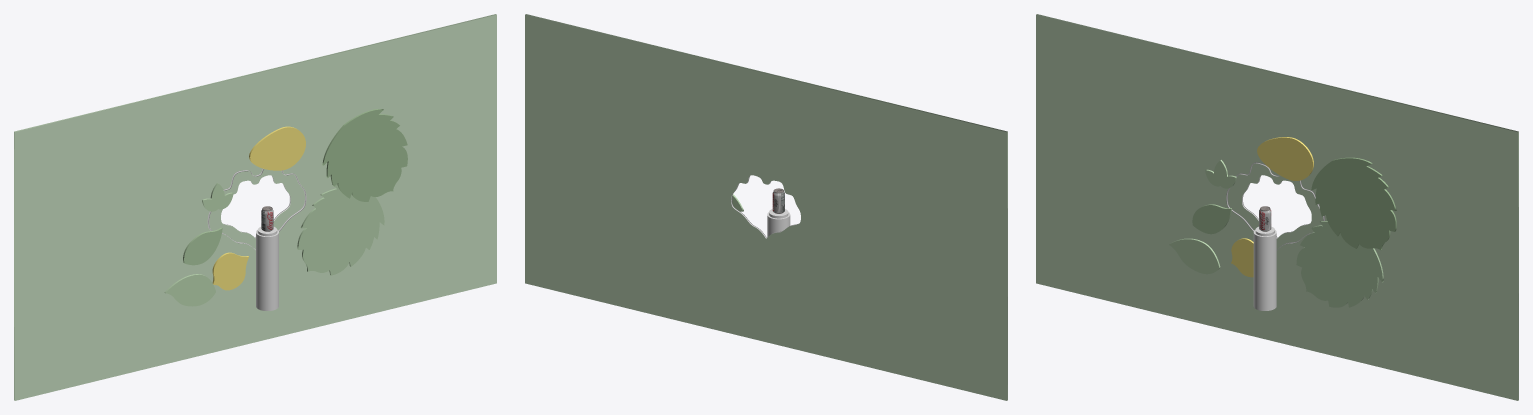
The model's file is SCENE_NOROI_VW3.glb.
3 views of the same model, side by side, from view 1: azimuth 30°, elevation 25°; view 2: azimuth 150°, elevation 25°; view 3: azimuth 330°, elevation 25° (orthographic).
Parts seen in each view (by area): view 1: Curve, Curve.009, Curve.010, Curve.011, base_big, Curve.005, Curve.008, Curve.007, Curve.006; view 2: Curve; view 3: Curve, Curve.009, Curve.010, Curve.011, base_big, Curve.005, Curve.007, Curve.008, Curve.006.
Part boxes in pixels (<box>): Curve: <box>14,14,496,400</box>; Curve.009: <box>322,109,407,201</box>; Curve.010: <box>297,184,384,275</box>; Curve.011: <box>249,126,305,170</box>; base_big: <box>256,230,278,310</box>; Curve.005: <box>164,274,215,306</box>; Curve.008: <box>212,252,248,290</box>; Curve.007: <box>183,227,222,265</box>; Curve.006: <box>202,183,233,211</box>; Curve: <box>525,14,1007,400</box>; Curve: <box>1036,14,1518,400</box>; Curve.009: <box>1311,157,1396,250</box>; Curve.010: <box>1296,221,1383,307</box>; Curve.011: <box>1257,137,1313,180</box>; base_big: <box>1253,229,1276,310</box>; Curve.005: <box>1169,238,1220,274</box>; Curve.007: <box>1192,204,1231,234</box>; Curve.008: <box>1231,238,1253,277</box>; Curve.006: <box>1205,160,1236,188</box>.
Bounding box in the file's own units: 1.43 × 0.7619 × 0.0946.
Materials: 10 (1 with a texture image).
